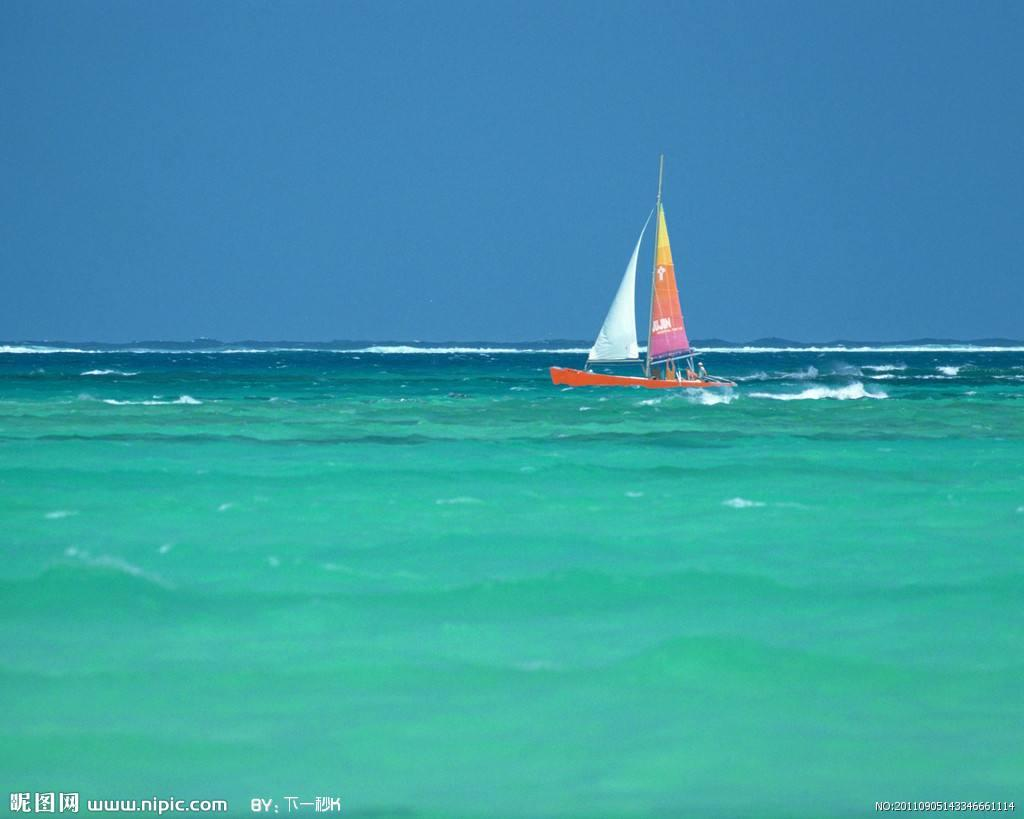fanchuan: (548, 146, 749, 395)
